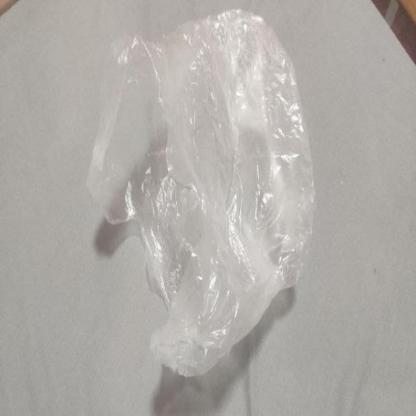Plastic Bag: (82, 8, 318, 380)
